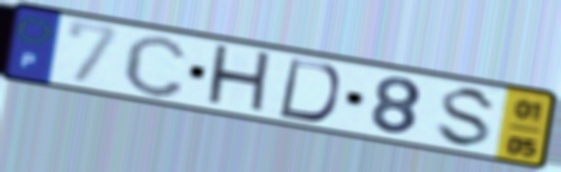7: (63, 17, 124, 88)
8: (369, 76, 425, 136)
C: (120, 33, 191, 101)
D: (275, 55, 343, 124)
H: (202, 41, 275, 118)
S: (431, 86, 501, 151)
